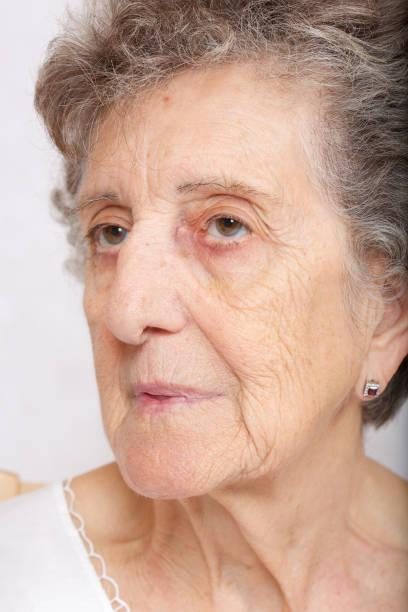Dry-Skin: (243, 100, 342, 168), (285, 250, 352, 348), (225, 393, 287, 473), (227, 293, 278, 363), (115, 417, 175, 468), (337, 278, 367, 365), (157, 133, 230, 168), (92, 263, 163, 298), (290, 280, 295, 375)
